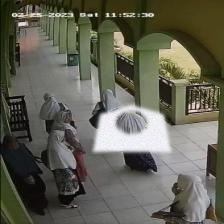Mukena: (92, 105, 171, 151)
